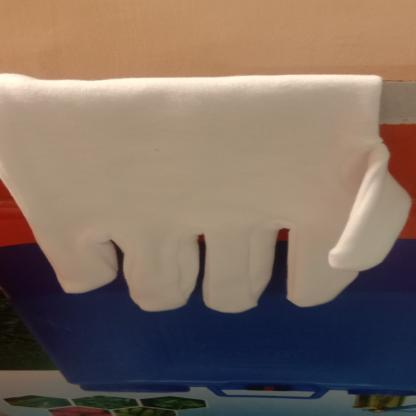gloved_hand: (0, 70, 413, 314)
